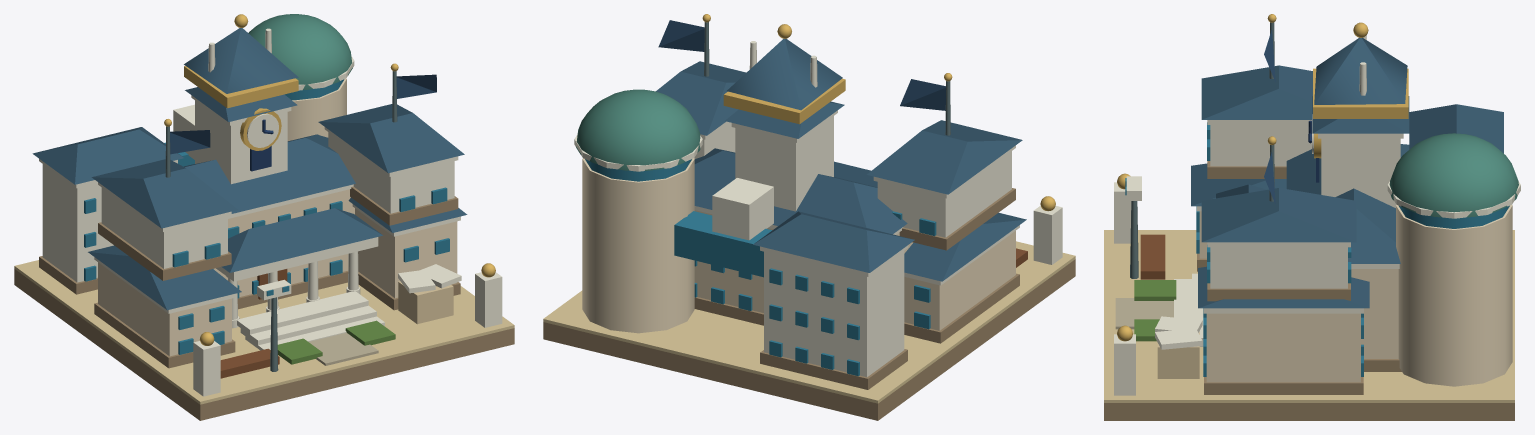
File: university-lv5.glb
3 views of the same model, side by side, from view 1: azimuth 30°, elevation 25°; view 2: azimuth 150°, elevation 25°; view 3: azimuth 270°, elevation 25° (orthographic). The views are drawn at different scales.
Parts seen in each view (by area): view 1: foundation_sand, upper_academy_roof_roof, upper_academy_white, foundation_stoneDark, lecture_hall_roof_roof, portico_pediment_roof, research_hall_white, library_wing_cream, observatory_dome_copper, entrance_steps_white, research_hall_roof_roof, science_wing_cream (+36 smaller); view 2: observatory_cream, research_hall_white, foundation_sand, foundation_stoneDark, upper_academy_roof_roof, observatory_dome_copper, upper_academy_white, clock_tower_white, lecture_hall_roof_roof, research_hall_roof_roof, library_wing_cream, tower_cap_roof (+19 smaller); view 3: observatory_cream, upper_academy_roof_roof, foundation_sand, science_wing_cream, upper_academy_white, observatory_dome_copper, foundation_stoneDark, clock_tower_white, tower_cap_roof, lecture_hall_roof_roof, lecture_hall_cream, research_hall_roof_roof (+22 smaller).
Boxes of the visible parts, x1,y1,x2,y2 form: foundation_sand: [14, 260, 514, 404]; upper_academy_roof_roof: [91, 104, 464, 228]; upper_academy_white: [98, 127, 458, 268]; foundation_stoneDark: [14, 269, 514, 420]; lecture_hall_roof_roof: [184, 134, 355, 213]; portico_pediment_roof: [221, 208, 382, 272]; research_hall_white: [39, 159, 177, 282]; library_wing_cream: [98, 262, 231, 356]; observatory_dome_copper: [248, 14, 352, 89]; entrance_steps_white: [237, 291, 384, 350]; research_hall_roof_roof: [32, 127, 183, 184]; science_wing_cream: [355, 208, 457, 298]; observatory_cream: [582, 158, 694, 333]; research_hall_white: [760, 245, 908, 377]; foundation_sand: [543, 241, 1075, 403]; foundation_stoneDark: [543, 259, 1075, 420]; upper_academy_roof_roof: [656, 61, 1022, 194]; observatory_dome_copper: [576, 89, 700, 170]; upper_academy_white: [694, 121, 1015, 237]; clock_tower_white: [731, 110, 837, 211]; lecture_hall_roof_roof: [694, 148, 907, 234]; research_hall_roof_roof: [753, 211, 914, 272]; library_wing_cream: [904, 231, 1015, 330]; tower_cap_roof: [727, 38, 842, 110]; observatory_cream: [1396, 204, 1512, 386]; upper_academy_roof_roof: [1201, 65, 1356, 242]; foundation_sand: [1104, 230, 1514, 402]; science_wing_cream: [1206, 313, 1360, 382]; upper_academy_white: [1207, 120, 1350, 288]; observatory_dome_copper: [1389, 133, 1518, 217]; foundation_stoneDark: [1104, 403, 1514, 420]; clock_tower_white: [1318, 133, 1403, 207]; tower_cap_roof: [1314, 37, 1407, 104]; lecture_hall_roof_roof: [1286, 144, 1409, 263]; lecture_hall_cream: [1351, 269, 1398, 358]; research_hall_roof_roof: [1409, 104, 1503, 153].
Bounding box in the file's own units: 0.9633 × 0.8277 × 1.
